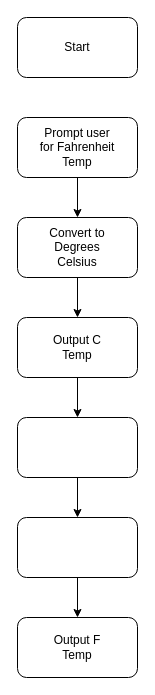
This 155x695 diagram has some shape labels left out. Here are the shapes that lost their labels. From the top down, the centre of each, then its label:
the point at 77,447: Prompt user for Celsius Temp
the point at 77,547: Convert to Degrees Fahrenheit
